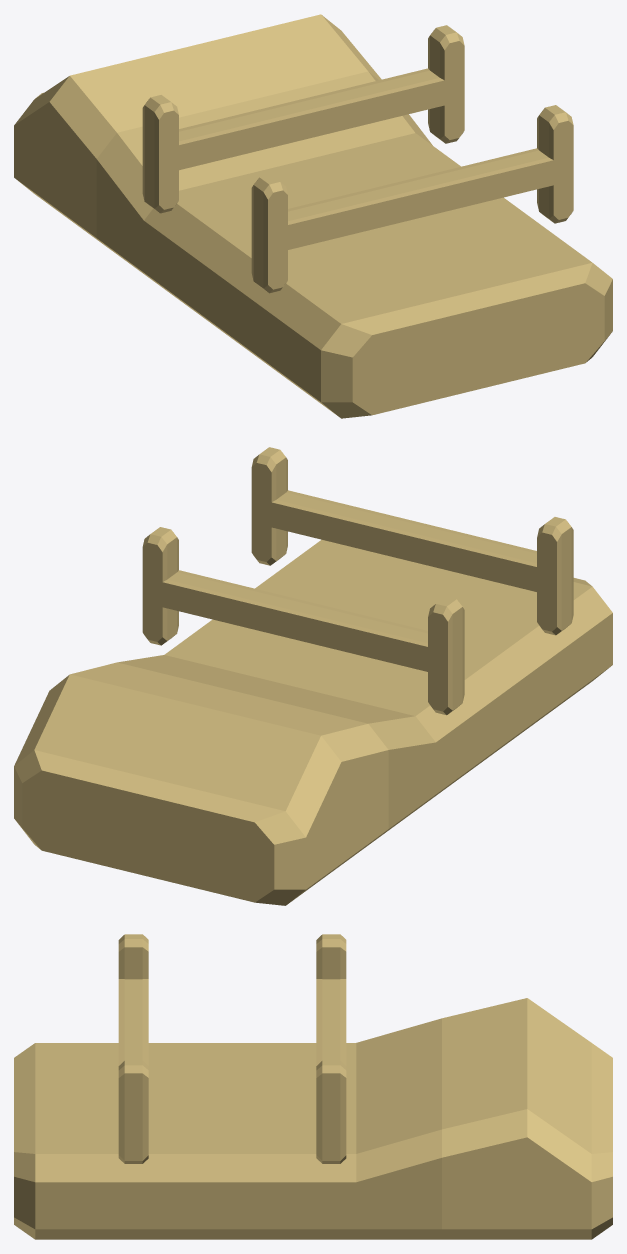
Rendered from tallow_medium_b.glb.
3 renders of one model, top to bottom at view 1: azimuth 30°, elevation 25°; view 2: azimuth 150°, elevation 25°; view 3: azimuth 270°, elevation 25°, orthographic. The views are drawn at different scales.
Visible parts, largest first — view 1: tallow_medium_b; view 2: tallow_medium_b; view 3: tallow_medium_b.
Boxes of the visible parts, bbox=[...] form: tallow_medium_b: bbox=[14, 14, 612, 418]; tallow_medium_b: bbox=[14, 447, 612, 905]; tallow_medium_b: bbox=[14, 934, 612, 1239].
Size of the model in its own units: 3.5 by 2.21 by 6.5.
